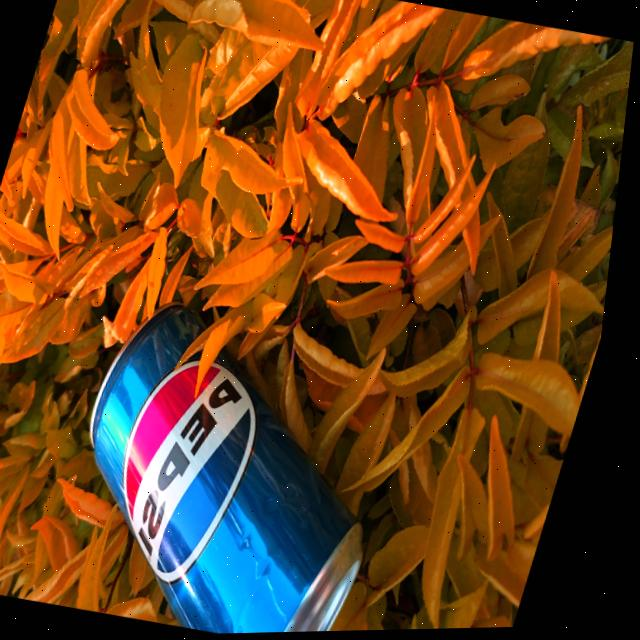Pepsi: (44, 296, 436, 638)
